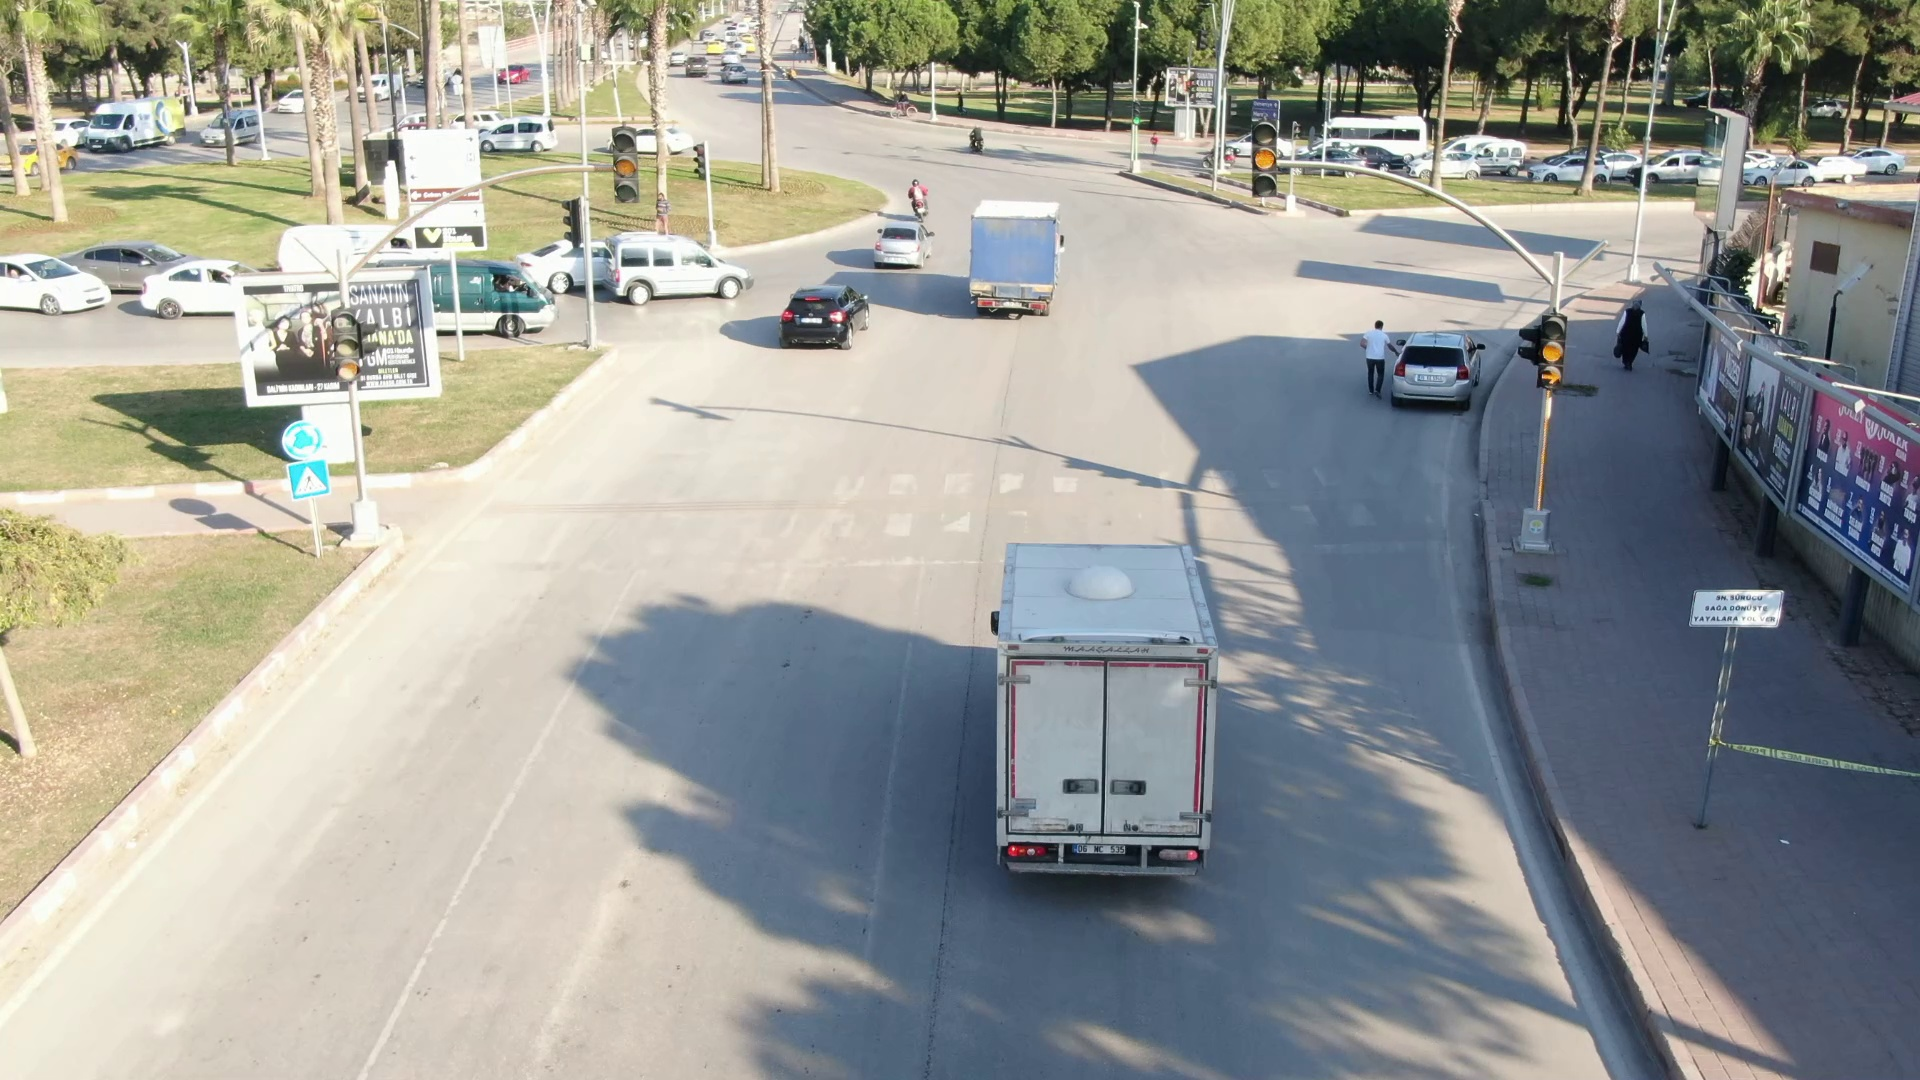car: (938, 506, 1265, 908), (959, 190, 1090, 328), (600, 227, 763, 312), (1387, 322, 1492, 410), (769, 273, 874, 352), (865, 212, 938, 267), (1527, 148, 1618, 189)
person: (1610, 292, 1658, 375), (1353, 315, 1398, 401)
